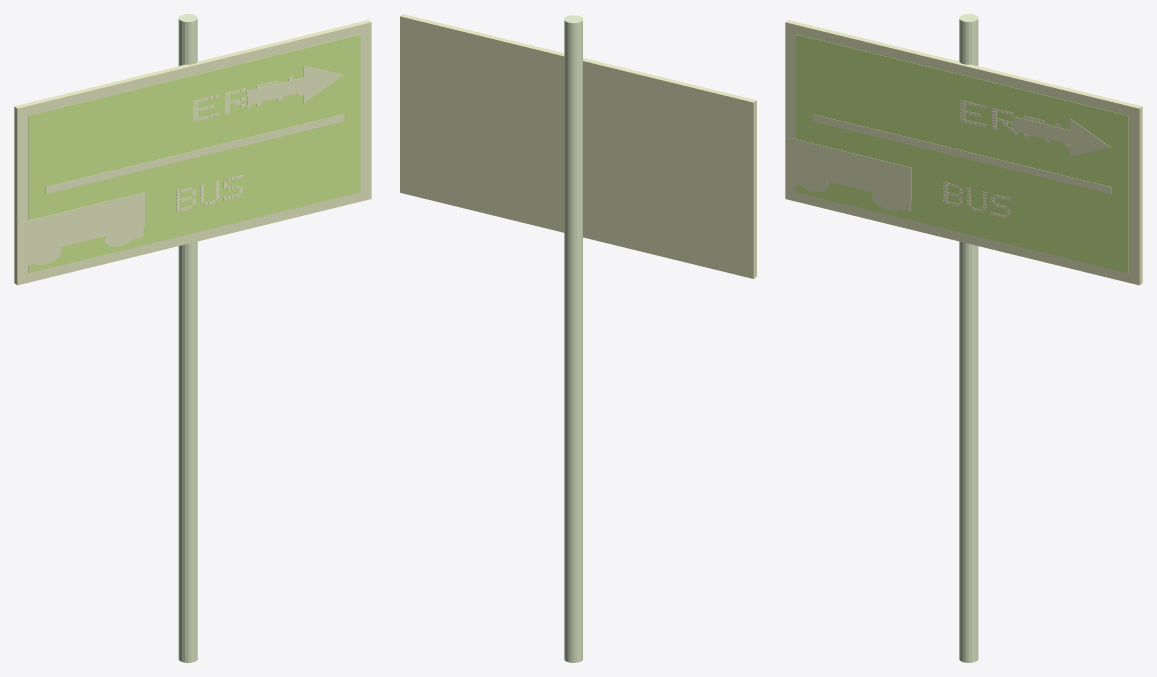
The model's file is sign_destination_stack_bus_ferry_right.glb.
The picture shows the model from 3 angles, left to right: view 1: azimuth 30°, elevation 25°; view 2: azimuth 150°, elevation 25°; view 3: azimuth 330°, elevation 25°; orthographic projection.
Visible parts, largest first — view 1: layer_1_00, plate_base_00, pole, layer_2_01, layer_2_00, layer_2_121, layer_2_120; view 2: plate_base_00, pole; view 3: layer_1_00, plate_base_00, pole, layer_2_01, layer_2_00, layer_2_120, layer_2_121.
Part boxes in pixels (box(x1,y1,x2,y2)): layer_1_00: box(28, 34, 360, 273); plate_base_00: box(14, 20, 371, 285); pole: box(178, 14, 197, 662); layer_2_01: box(21, 192, 144, 256); layer_2_00: box(45, 114, 344, 193); layer_2_121: box(303, 65, 343, 103); layer_2_120: box(247, 77, 303, 105); plate_base_00: box(400, 14, 756, 278); pole: box(564, 15, 582, 662); layer_1_00: box(796, 34, 1128, 273); plate_base_00: box(785, 20, 1142, 285); pole: box(959, 14, 978, 662); layer_2_01: box(788, 137, 911, 201); layer_2_00: box(812, 114, 1111, 193); layer_2_120: box(1014, 117, 1069, 144); layer_2_121: box(1070, 118, 1110, 156).
Bounding box in the file's own units: 1.27 × 2.2 × 0.0725.
